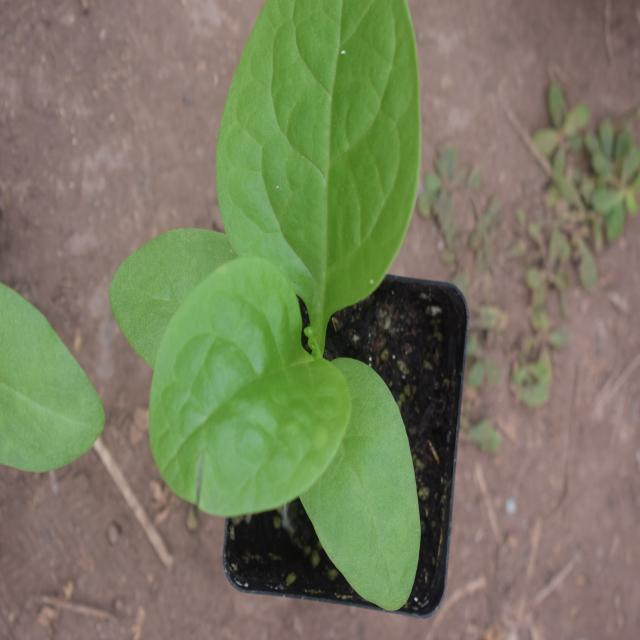Ceylon spinach: (161, 0, 424, 576)
